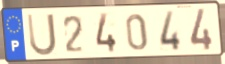0: (124, 12, 150, 51)
2: (63, 14, 85, 54)
4: (188, 6, 214, 53), (158, 9, 183, 53), (94, 12, 119, 55)
U: (25, 12, 58, 57)
